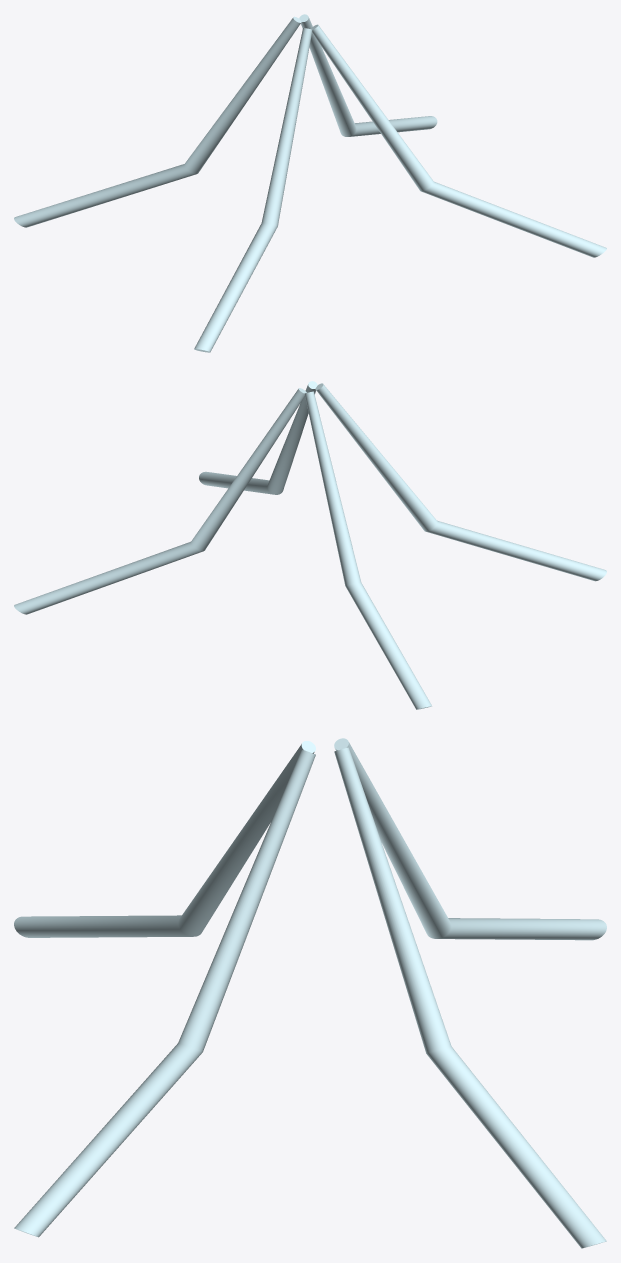
The model's file is ferris_wheel_support.glb.
3 renders of one model, top to bottom at view 1: azimuth 30°, elevation 25°; view 2: azimuth 150°, elevation 25°; view 3: azimuth 270°, elevation 25°, orthographic. The views are drawn at different scales.
Visible parts, largest first — view 1: support_model; view 2: support_model; view 3: support_model.
Boxes of the visible parts, x1,y1,x2,y2 form: support_model: (14,14,606,352); support_model: (14,381,606,709); support_model: (14,738,606,1248).
Bounding box in the file's own units: 44.45 × 22.07 × 34.24.
Materials: 1 (1 with a texture image).
